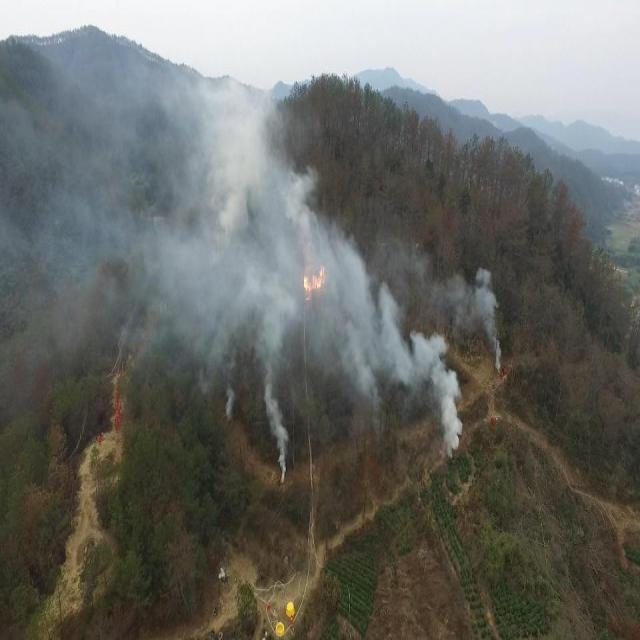Fire: (294, 248, 326, 303)
Smoke: (0, 36, 297, 482), (348, 282, 456, 469), (463, 256, 504, 371)
